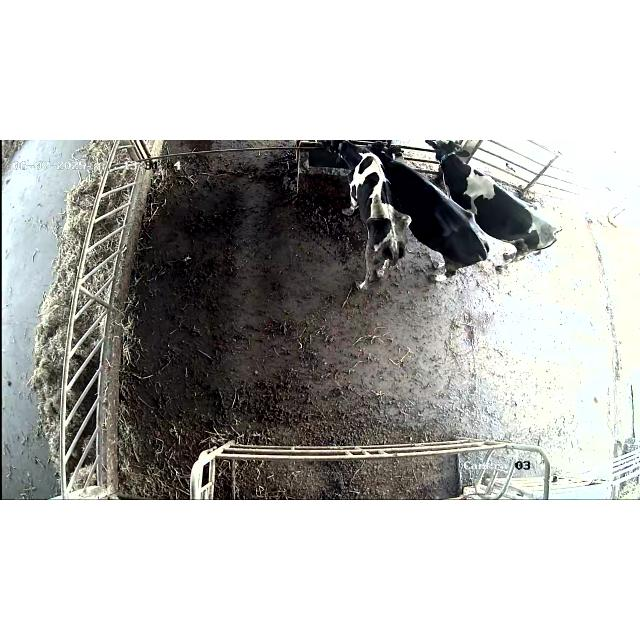drink: (312, 140, 371, 190), (363, 140, 407, 182)
stand: (424, 140, 570, 270)
